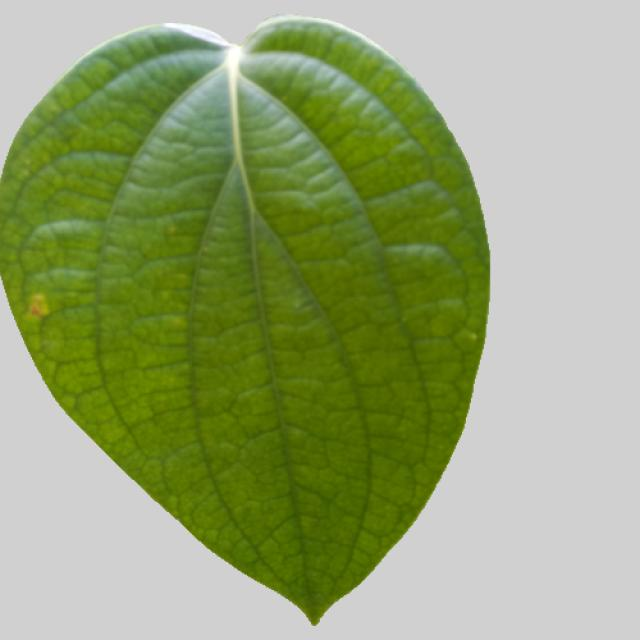healthy: (1, 18, 497, 632)
